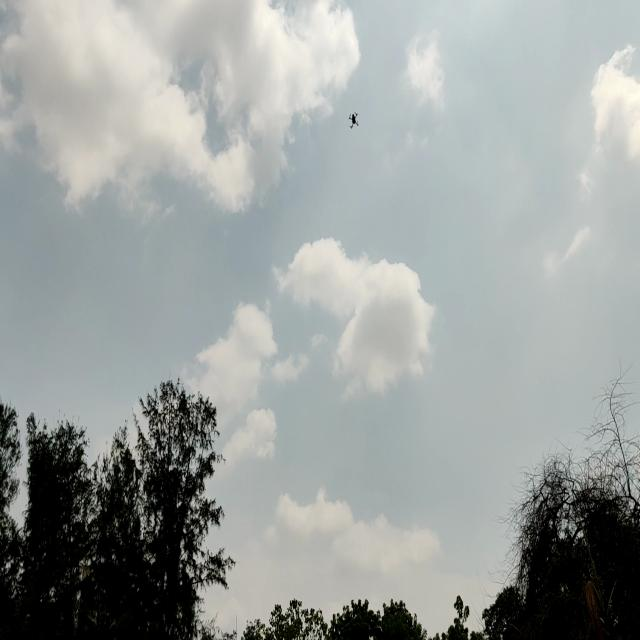drone: (342, 100, 368, 136)
